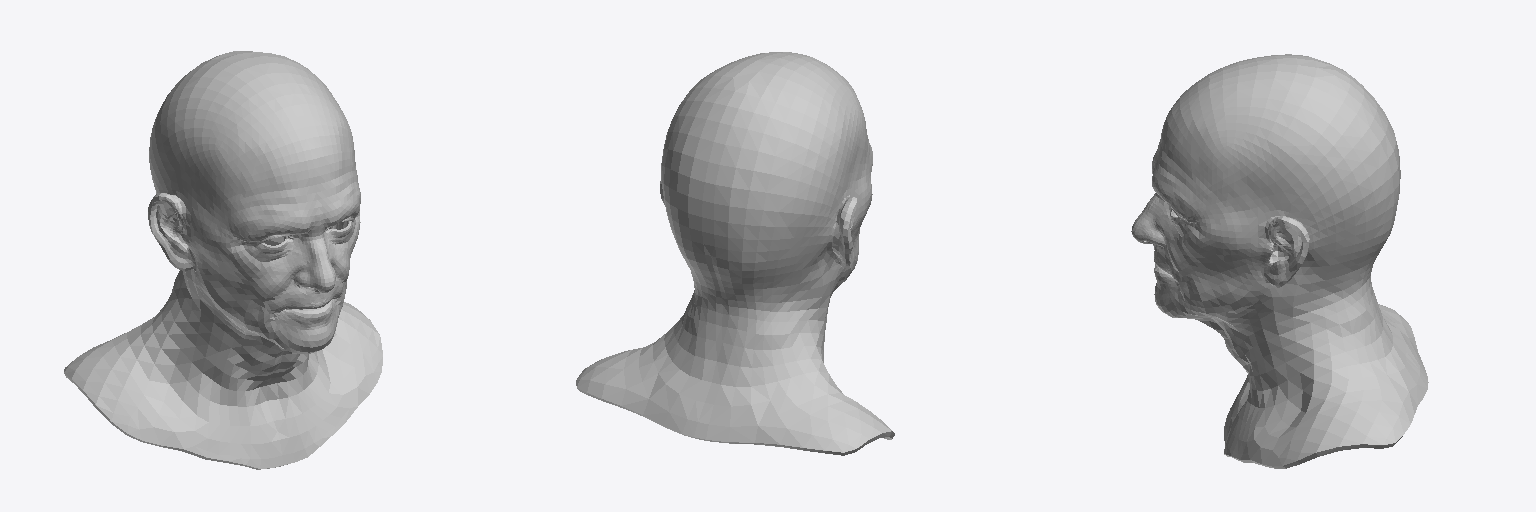
The model's file is wholeFace_TexSeams.obj.
3 views of the same model, side by side, from view 1: azimuth 30°, elevation 25°; view 2: azimuth 150°, elevation 25°; view 3: azimuth 270°, elevation 25° (orthographic).
Bounding box in the file's own units: 25.29 × 32.26 × 22.63.